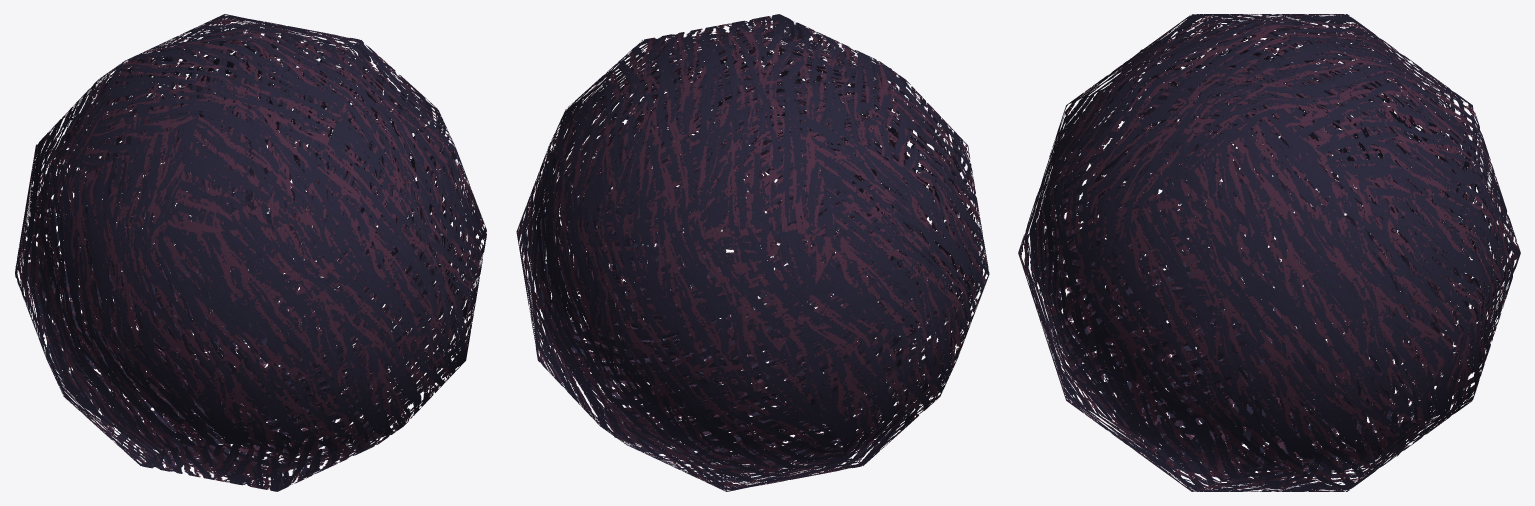
The model's file is RootObjectBush.fbx.
3 views of the same model, side by side, from view 1: azimuth 30°, elevation 25°; view 2: azimuth 150°, elevation 25°; view 3: azimuth 270°, elevation 25° (orthographic). The views are drawn at different scales.
Parts seen in each view (by area): view 1: bush, bush.001, bush.002; view 2: bush, bush.001, bush.002; view 3: bush, bush.001, bush.002.
Boxes of the visible parts, <box> form: bush: <box>15,14,486,491</box>; bush.001: <box>21,23,481,482</box>; bush.002: <box>70,69,436,437</box>; bush: <box>516,14,989,491</box>; bush.001: <box>522,28,983,477</box>; bush.002: <box>567,73,937,433</box>; bush: <box>1018,14,1520,491</box>; bush.001: <box>1030,16,1508,489</box>; bush.002: <box>1076,65,1462,442</box>.
Bounding box in the file's own units: 399 × 419 × 419.
